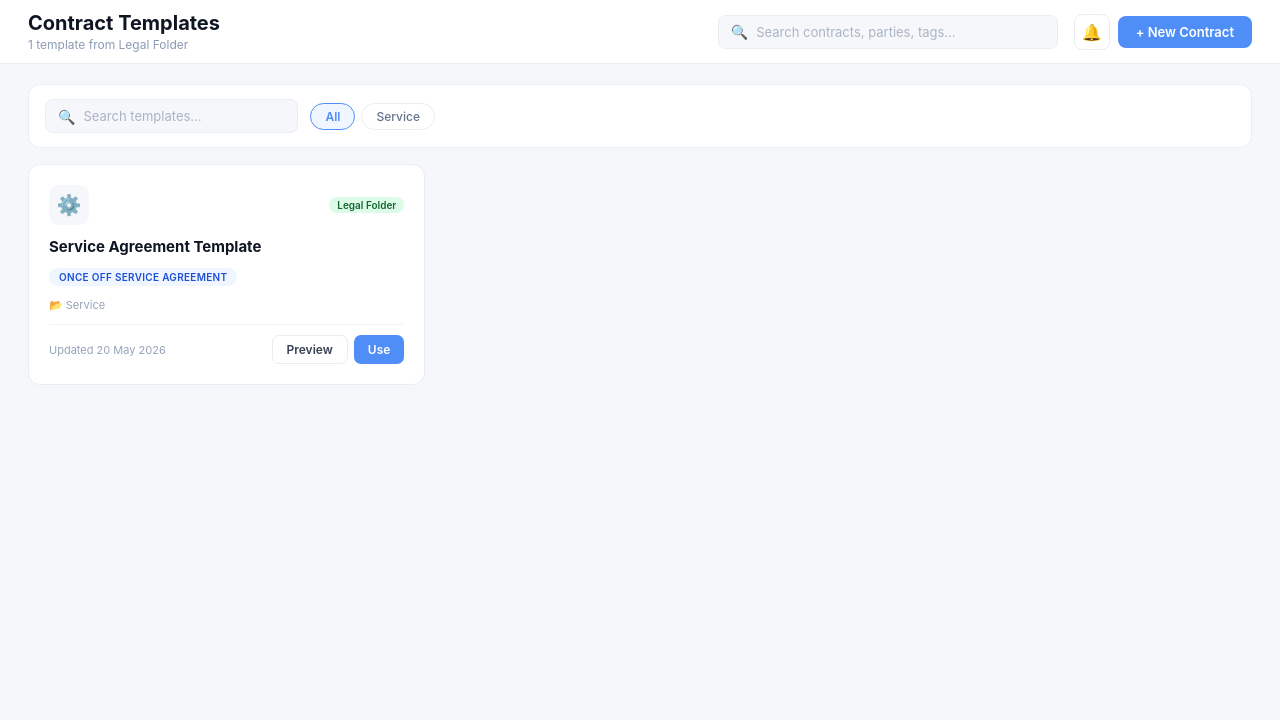
Test: Draft Created modal — browser_fallback shown on open failure › shows browser-only fallback panel when openDraft returns browser_fallback
This screenshot has width=1280, height=720.
Expected: the heading "Service Agreement Template" is shown, [49, 237, 261, 256]
Click the button "Use": [379, 350] box [354, 335, 404, 364]
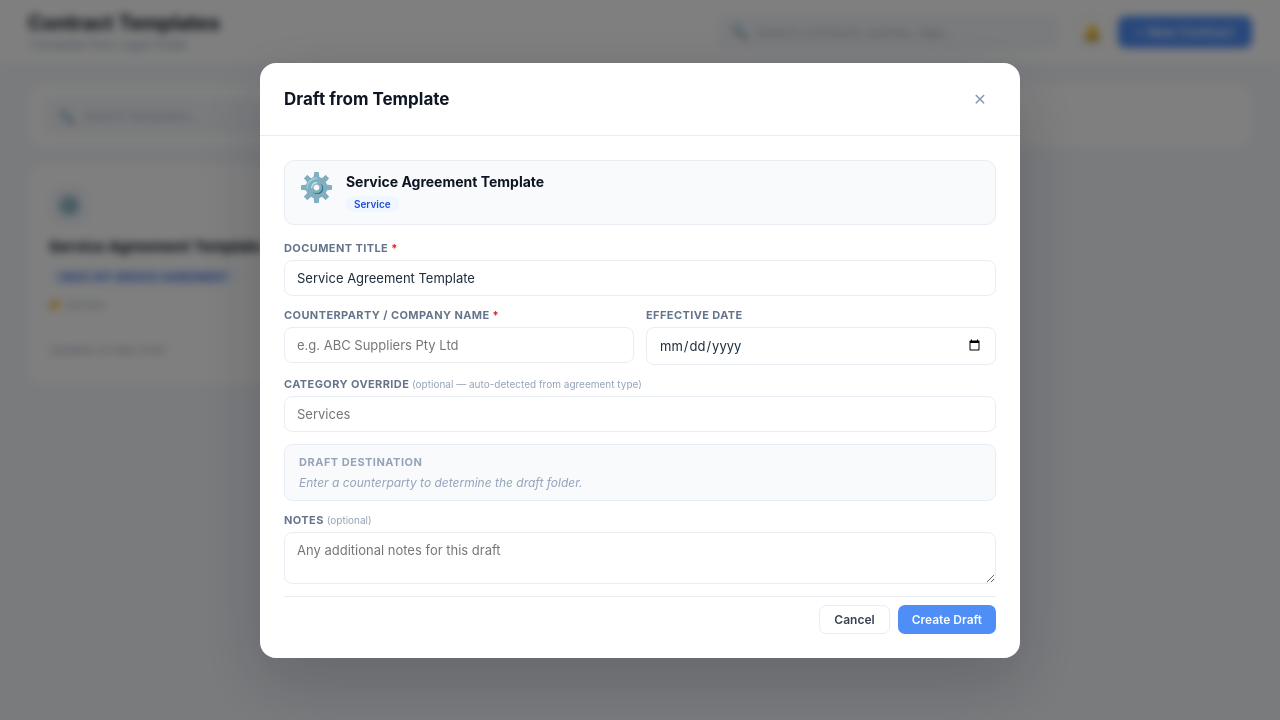
Expected: the heading "Draft from Template" is shown, [284, 88, 450, 108]
In the field with placeholder "e.g. ABC Suppliers Pty Ltd": [459, 344] box [284, 326, 634, 362], type "Acme Ltd"
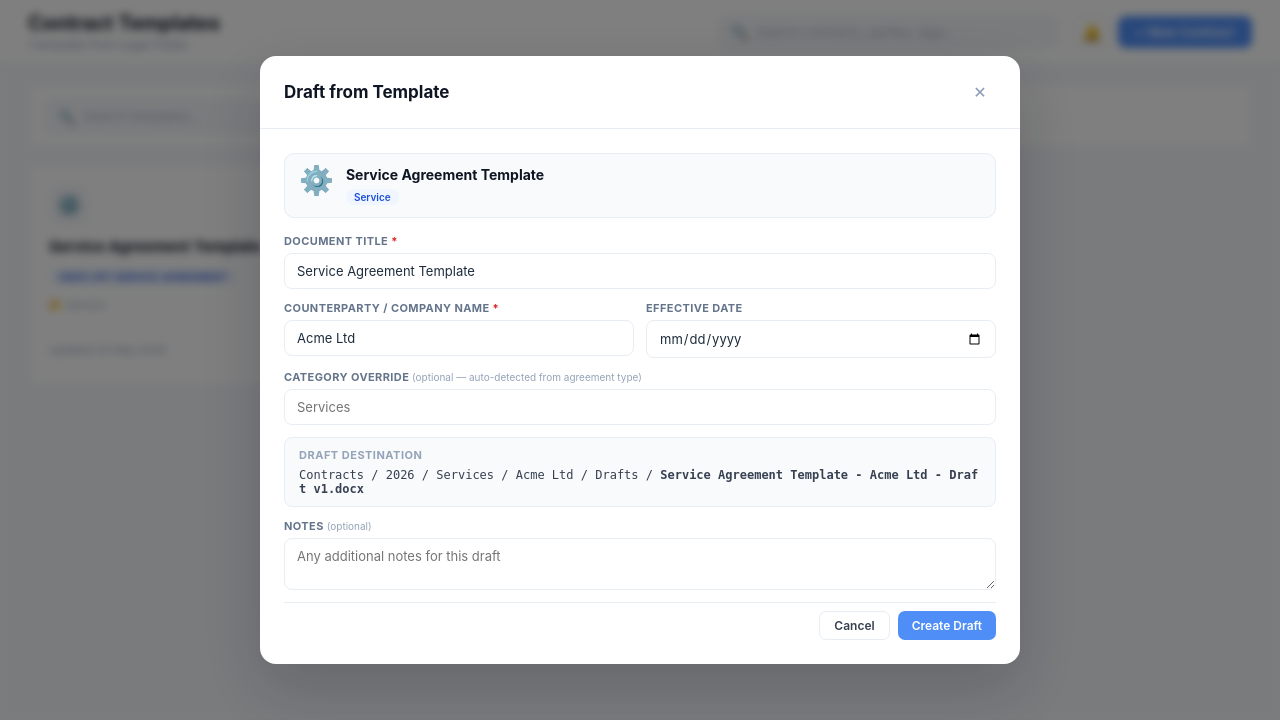
Click the button "Create Draft": [947, 626] box [898, 611, 996, 640]
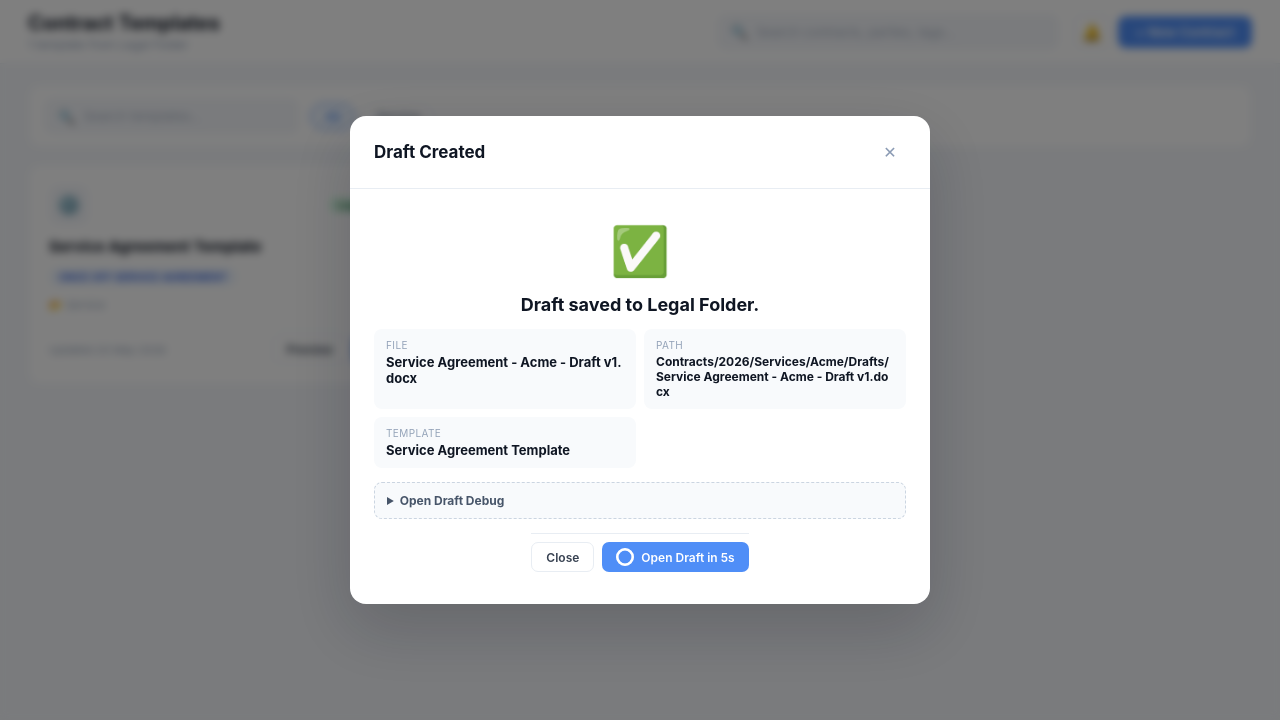
Expected: the heading "Draft Created" is shown, [374, 142, 485, 162]
Click the button with test id "open-draft-btn": [675, 557] box [602, 542, 749, 572]
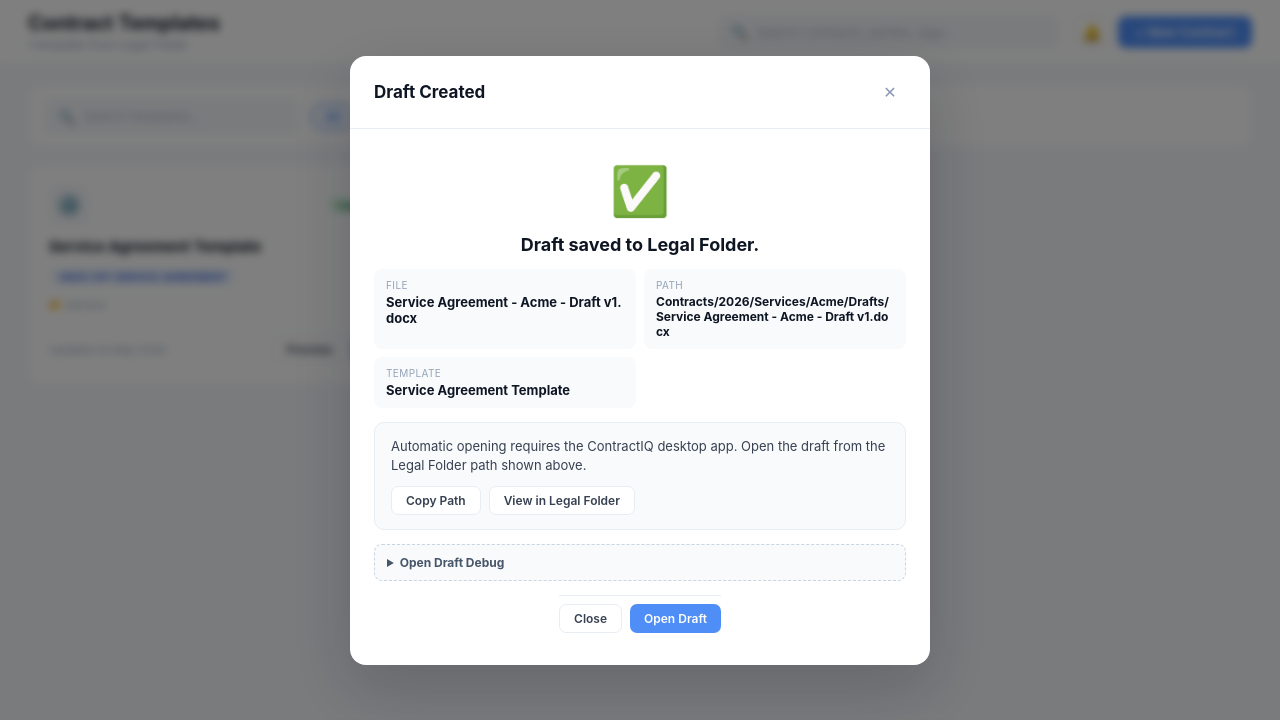
Expected: the text "Automatic opening requires the ContractIQ desktop app" is shown, [391, 438, 885, 473]
